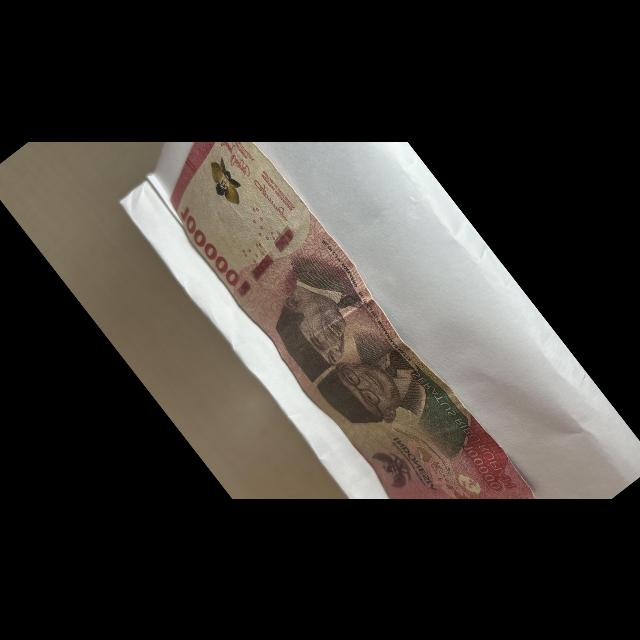Palsu-100k: (136, 141, 544, 580)
Tinta-Palsu-100k: (198, 154, 254, 217)
